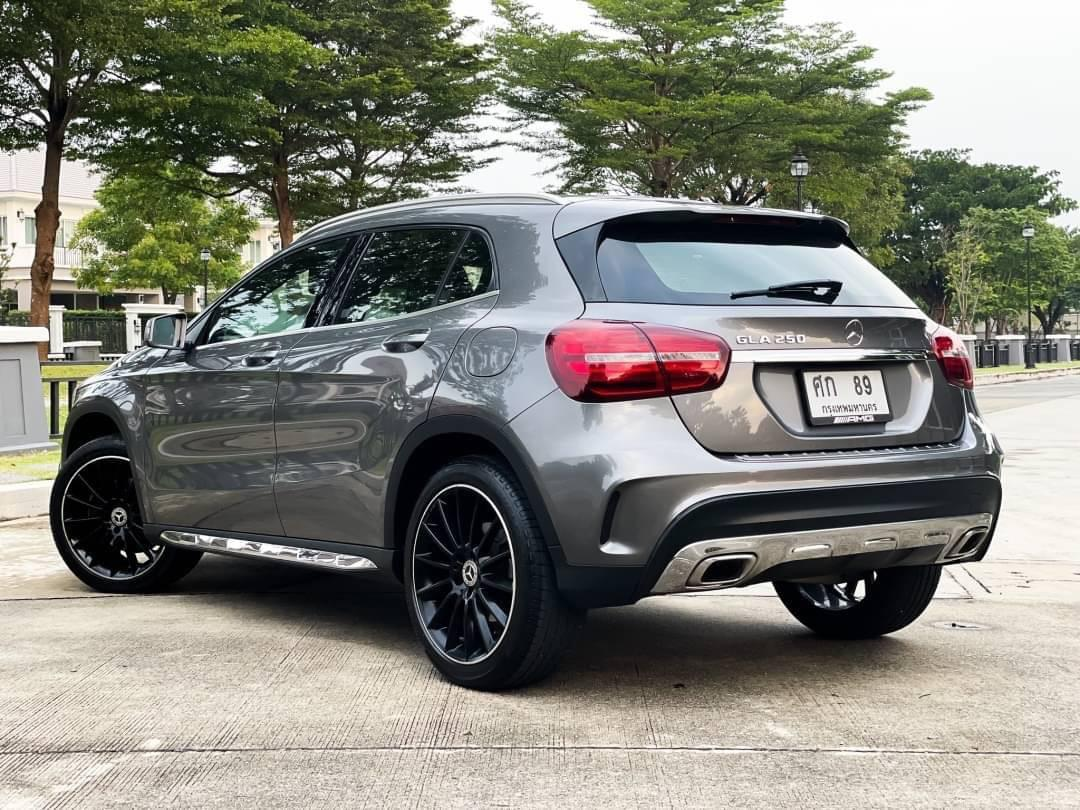license-plate: (797, 362, 894, 428)
